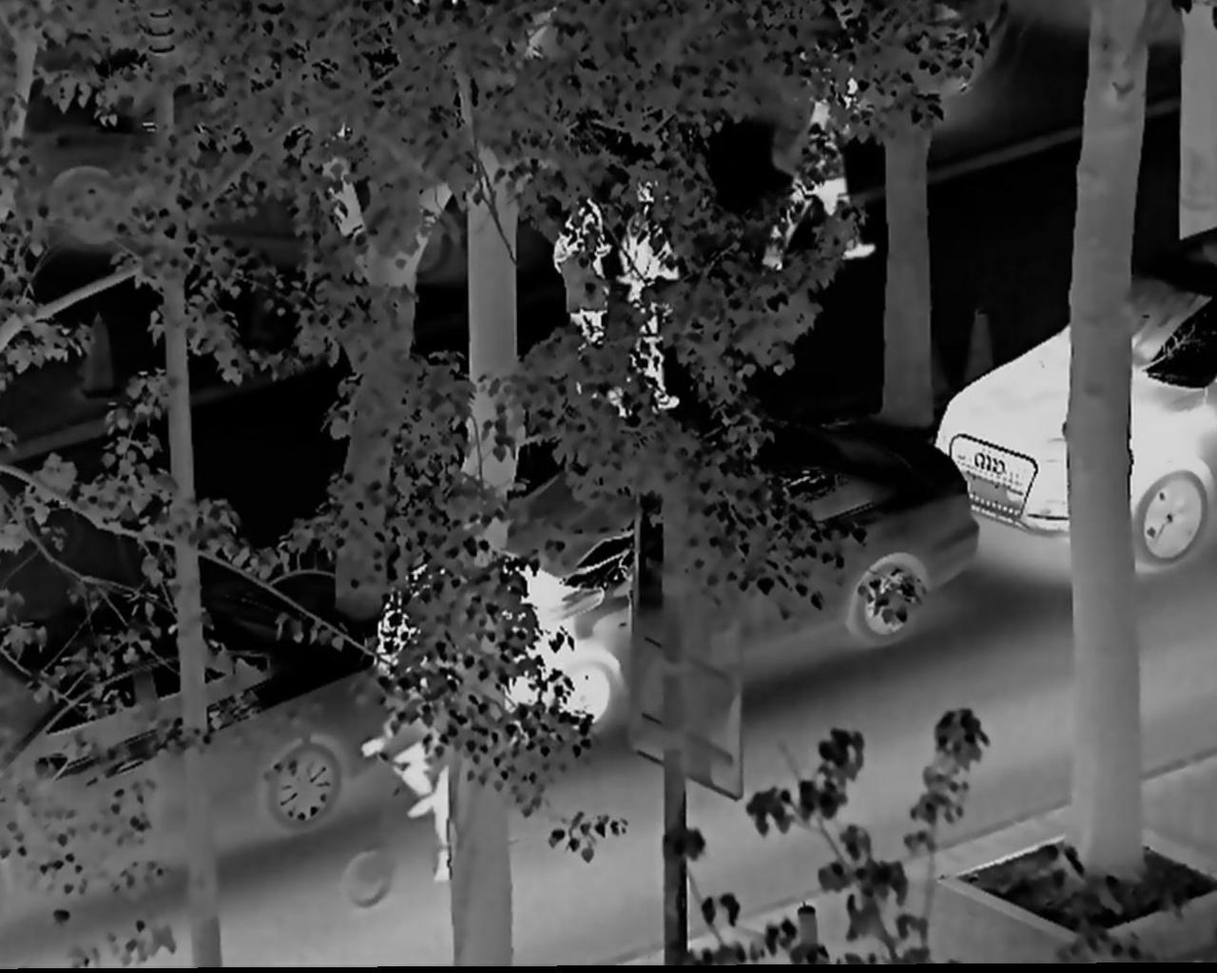person: (762, 50, 877, 275), (611, 169, 687, 419), (550, 189, 613, 367)
